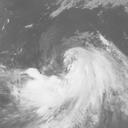cyclone: (17, 47, 108, 116)
